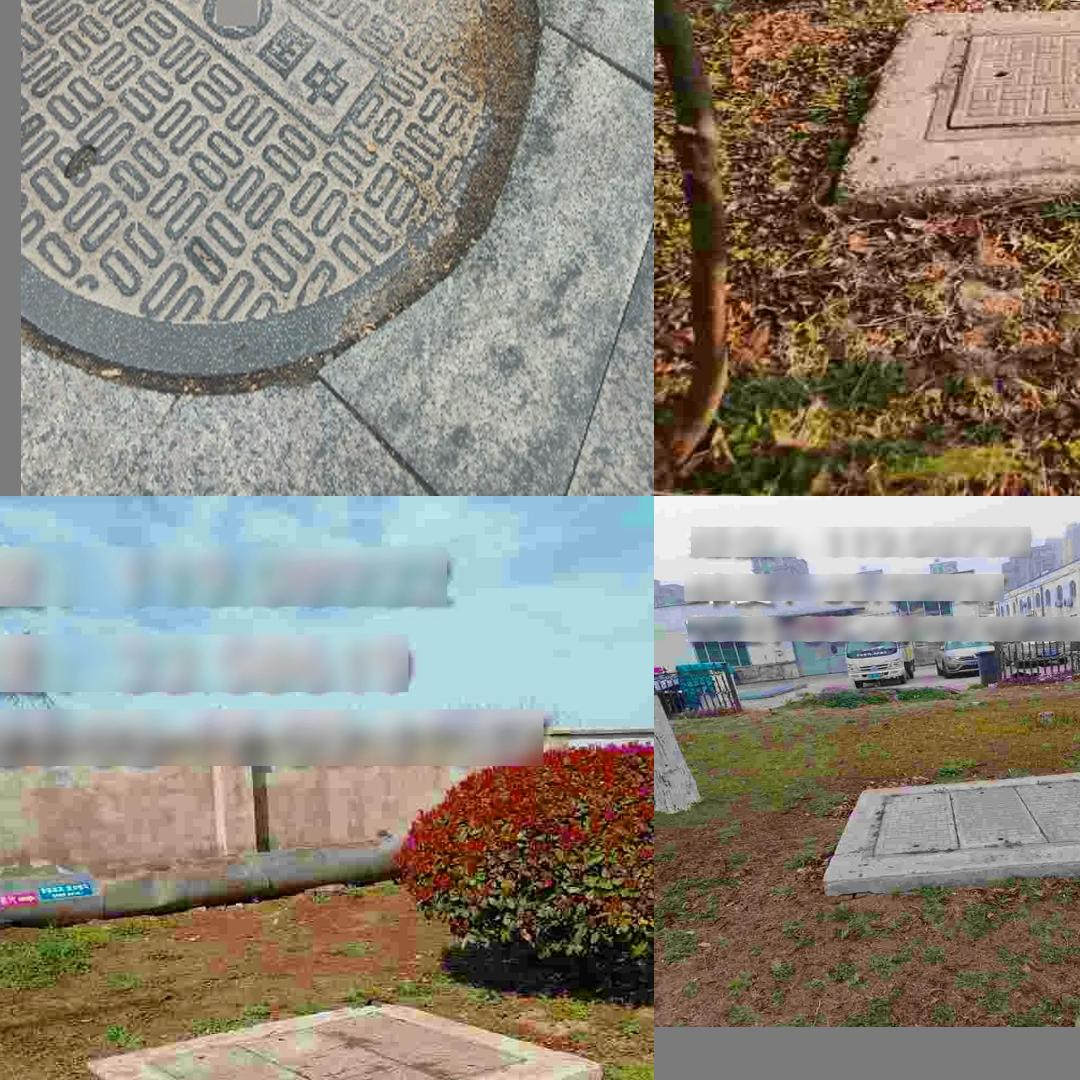good: (22, 0, 515, 372), (141, 1010, 531, 1080), (925, 16, 1080, 138), (861, 777, 1080, 860)
